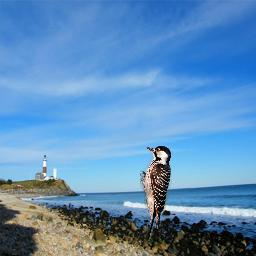Woodpecker: (140, 143, 172, 243)
